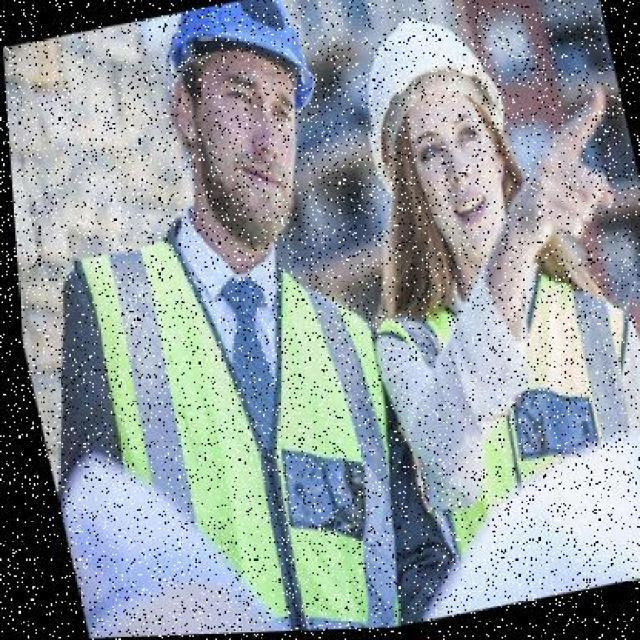helmet: (326, 0, 522, 173), (152, 0, 322, 142)
vest: (49, 188, 437, 637)
